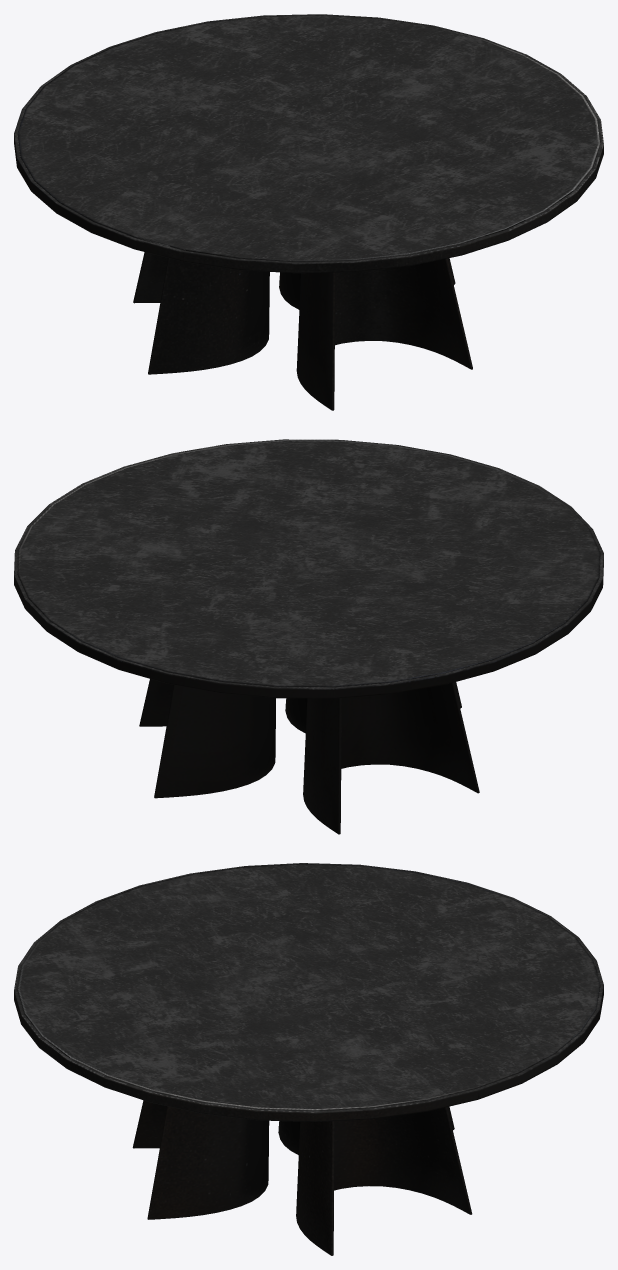
File: DisplayTable_CircularTable_0.3x0.8x0.3.glb
The picture shows the model from 3 angles, top to bottom: view 1: azimuth 30°, elevation 25°; view 2: azimuth 150°, elevation 25°; view 3: azimuth 270°, elevation 25°; orthographic projection.
Visible parts, largest first — view 1: Round_table; view 2: Round_table; view 3: Round_table.
Boxes of the visible parts, box(x1,y1,x2,y2) form: Round_table: box(14, 14, 603, 410); Round_table: box(14, 439, 603, 834); Round_table: box(14, 863, 603, 1255).
Size of the model in its own units: 2.22 by 0.798 by 2.22.
Materials: 1 (1 with a texture image).
